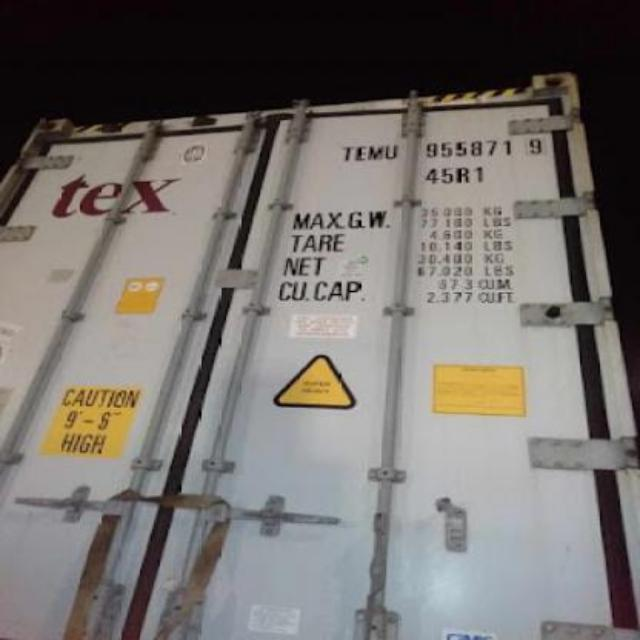1: (502, 138, 518, 158)
5: (441, 138, 454, 162), (454, 141, 468, 159)
7: (484, 138, 500, 158)
8: (470, 139, 486, 159)
9: (528, 138, 546, 158), (426, 142, 439, 160)
E: (356, 142, 368, 166)
M: (371, 144, 384, 164)
T: (344, 144, 354, 164)
U: (384, 142, 402, 164)
